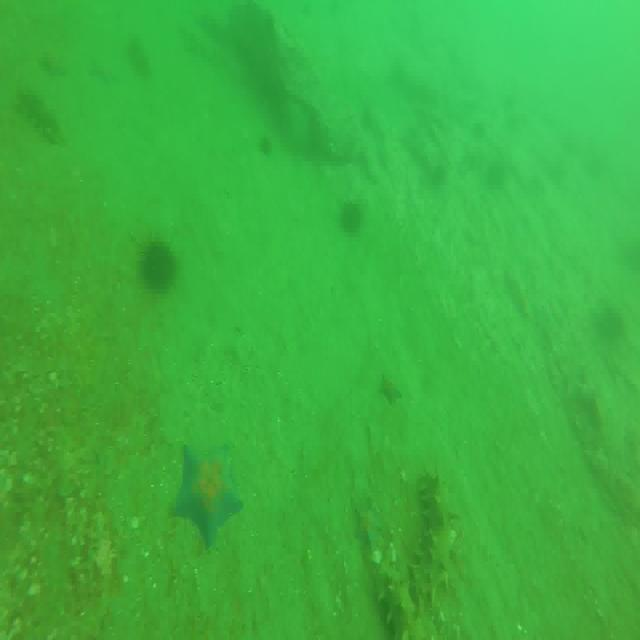echinus: (138, 237, 180, 294), (339, 195, 364, 239), (257, 130, 276, 159)
holothurian: (409, 476, 455, 604), (14, 84, 65, 148), (378, 571, 416, 640)
starfish: (170, 443, 243, 550), (377, 369, 404, 408)
